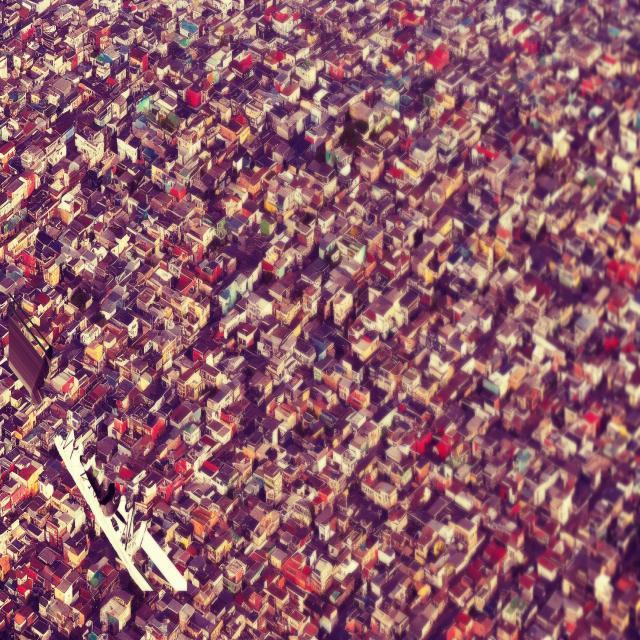airplane: (54, 427, 187, 592)
